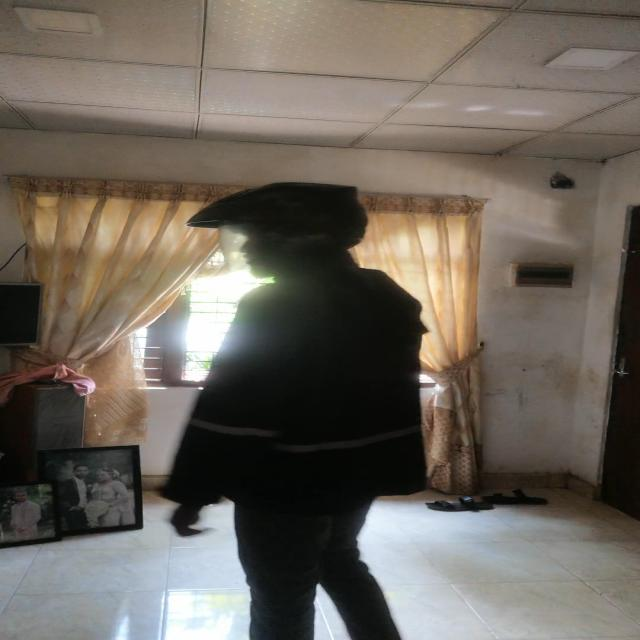Helmet_Wearer: (194, 182, 379, 288)
Jacket_Wearer: (157, 273, 452, 534)
Person: (154, 185, 440, 640)
